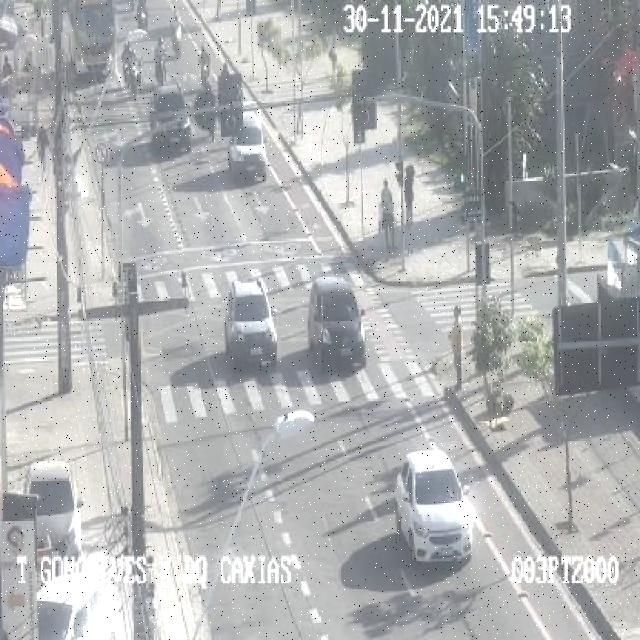Bus: (71, 2, 113, 82)
Car: (399, 445, 474, 569), (31, 566, 110, 640), (28, 457, 76, 566), (311, 278, 365, 372), (226, 282, 275, 368), (154, 82, 188, 150)
Cycle: (194, 44, 214, 91), (122, 40, 138, 95), (168, 14, 186, 55), (130, 2, 149, 38), (153, 37, 167, 84)
Truck: (232, 100, 264, 181)
